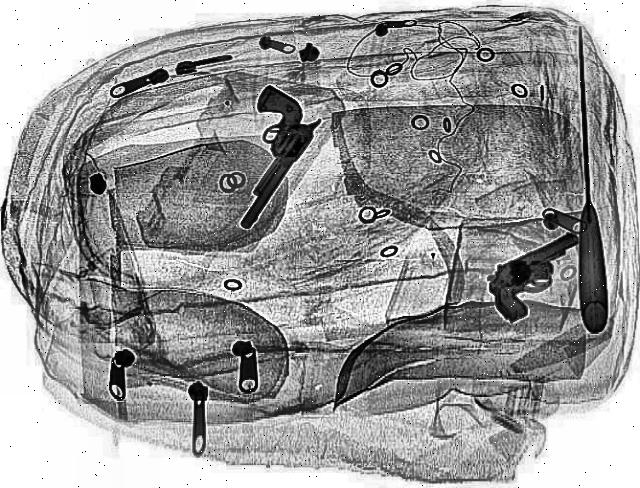Gun: (180, 86, 338, 230), (470, 232, 618, 326)
Knife: (568, 26, 612, 334)
